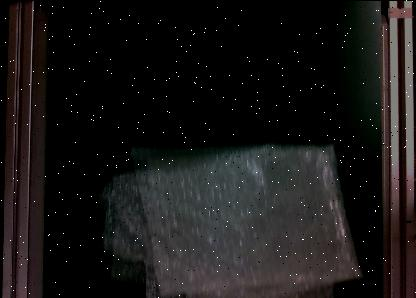Others: (98, 139, 366, 298)
